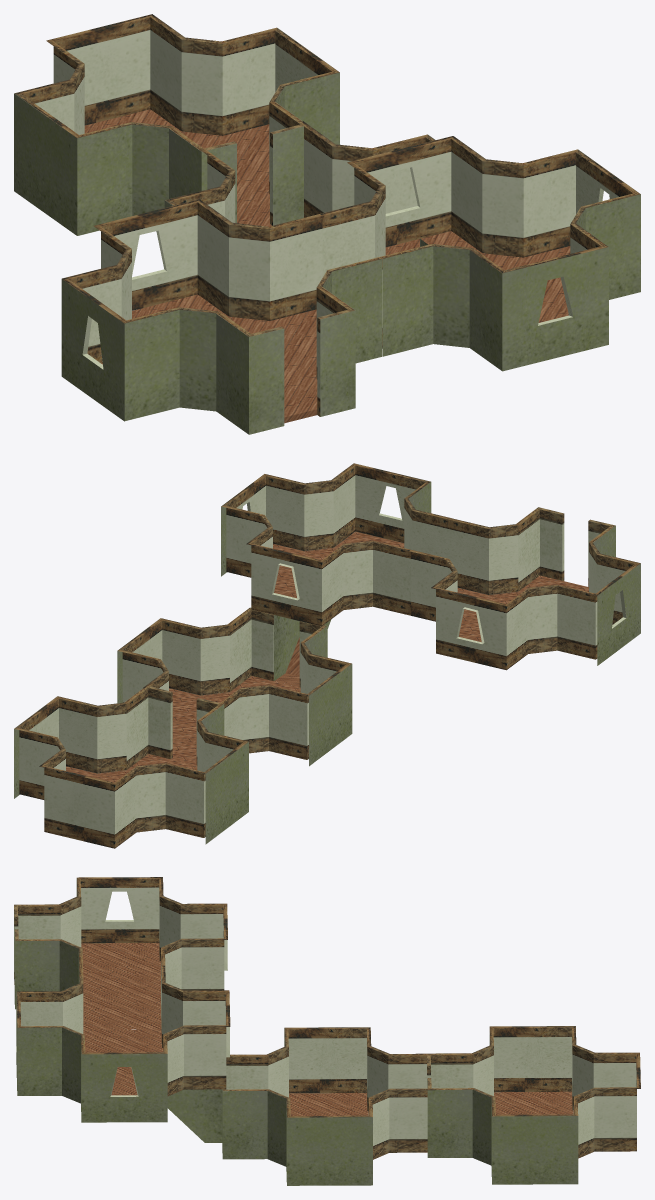
The model's file is HouseInterior_2x1xbasementDoble.fbx.
3 views of the same model, one above another, from view 1: azimuth 30°, elevation 25°; view 2: azimuth 150°, elevation 25°; view 3: azimuth 270°, elevation 25° (orthographic). The views are drawn at different scales.
Parts seen in each view (by area): view 1: sotano_04, pared_lv3_012, pared_lv3_08, pared_lv1_018, pared_lv2_019, pared_lv2_024, sotano_03, pared_lv1_012, pared_lateral_03, suelo_09, pared_lv1_011, pared_lv2_023 (+3 smaller); view 2: sotano_04, sotano_03, pared_lv3_012, pared_lv3_08, pared_lv1_018, pared_lv2_020, pared_lv2_023, pared_lv1_011, pared_lateral_03, suelo_bajada_03, pared_lv2_024, pared_lv2_019 (+3 smaller); view 3: sotano_04, sotano_03, pared_lv3_012, suelo_09, pared_lv3_08, pared_lateral_011, pared_lv1_018, suelo_bajada_03, pared_lateral_03, pared_lv1_011, pared_lv1_012, pared_lv2_023 (+3 smaller).
Boxes of the visible parts, x1,y1,x2,y2 form: sotano_04: [14, 14, 339, 235]; pared_lv3_012: [320, 136, 577, 277]; pared_lv3_08: [62, 199, 322, 363]; pared_lv1_018: [469, 223, 608, 371]; pared_lv2_019: [124, 307, 219, 420]; pared_lv2_024: [380, 244, 472, 356]; sotano_03: [164, 121, 435, 348]; pared_lv1_012: [216, 312, 284, 434]; pared_lateral_03: [61, 278, 126, 421]; suelo_09: [101, 294, 317, 423]; pared_lv1_011: [316, 287, 355, 416]; pared_lv2_023: [570, 193, 640, 299]; sotano_04: [14, 686, 248, 848]; sotano_03: [117, 607, 352, 766]; pared_lv3_012: [221, 506, 410, 626]; pared_lv3_08: [409, 550, 596, 670]; pared_lv1_018: [331, 463, 431, 547]; pared_lv2_020: [450, 518, 518, 594]; pared_lv2_023: [265, 474, 333, 551]; pared_lv1_011: [516, 507, 564, 591]; pared_lateral_03: [595, 563, 640, 665]; suelo_bajada_03: [273, 531, 404, 687]; pared_lv2_024: [404, 498, 452, 560]; pared_lv2_019: [589, 542, 640, 624]; sotano_04: [427, 1026, 640, 1184]; sotano_03: [222, 1027, 435, 1185]; pared_lv3_012: [161, 965, 230, 1096]; suelo_09: [81, 943, 161, 1029]; pared_lv3_08: [159, 877, 227, 1018]; pared_lateral_011: [81, 1052, 167, 1122]; pared_lv1_018: [16, 991, 63, 1095]; suelo_bajada_03: [83, 1029, 222, 1142]; pared_lateral_03: [78, 877, 162, 943]; pared_lv1_011: [14, 929, 60, 1009]; pared_lv1_012: [14, 904, 60, 984]; pared_lv2_023: [62, 1026, 85, 1111].
Size of the model in its own units: 9120 by 3176 by 13627.
